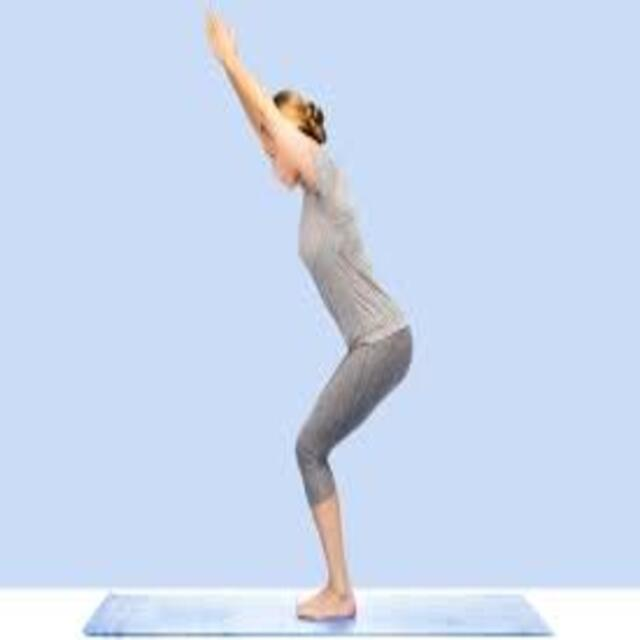Squat_Pose: (207, 14, 414, 621)
